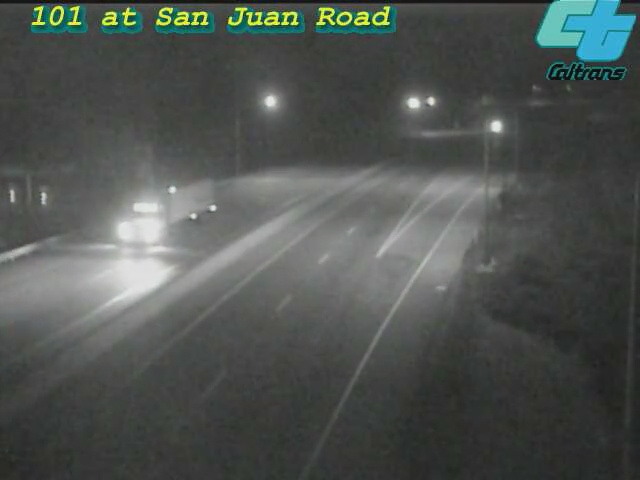vehicle: (130, 172, 210, 252), (470, 102, 520, 152)
